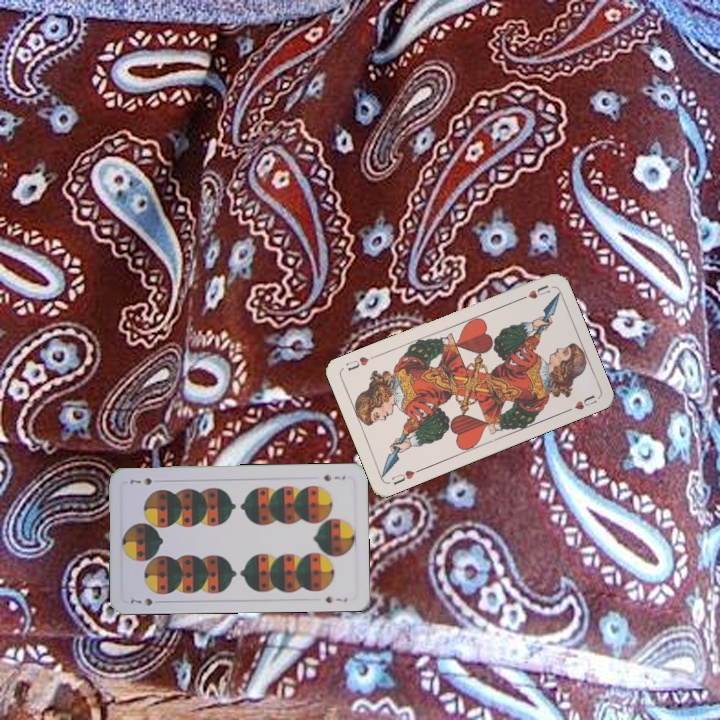HU: (387, 465, 424, 488), (515, 281, 553, 303)
S7: (125, 593, 155, 608), (320, 470, 348, 483)
